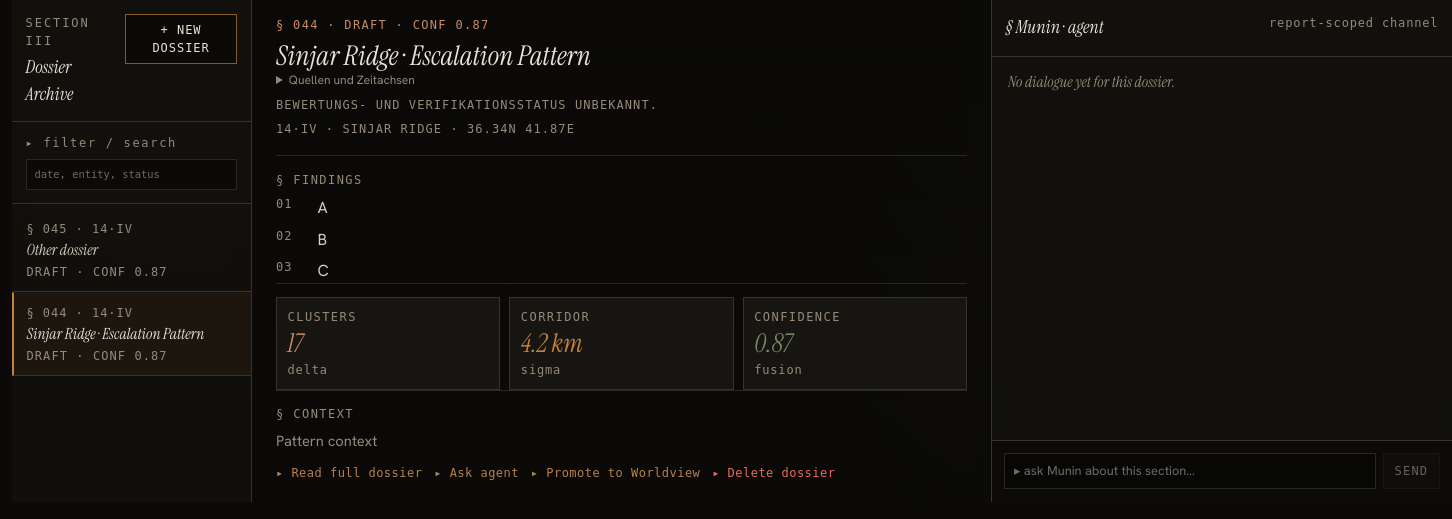
Test: never inserts an answer into a different dossier selected while analysis ran
The width and height of the screenshot is (1452, 519).
Click the button "§ 045 · 14·IV Other dossier draft · conf 0.87".
click(132, 251)  # box 12,209 -> 251,292
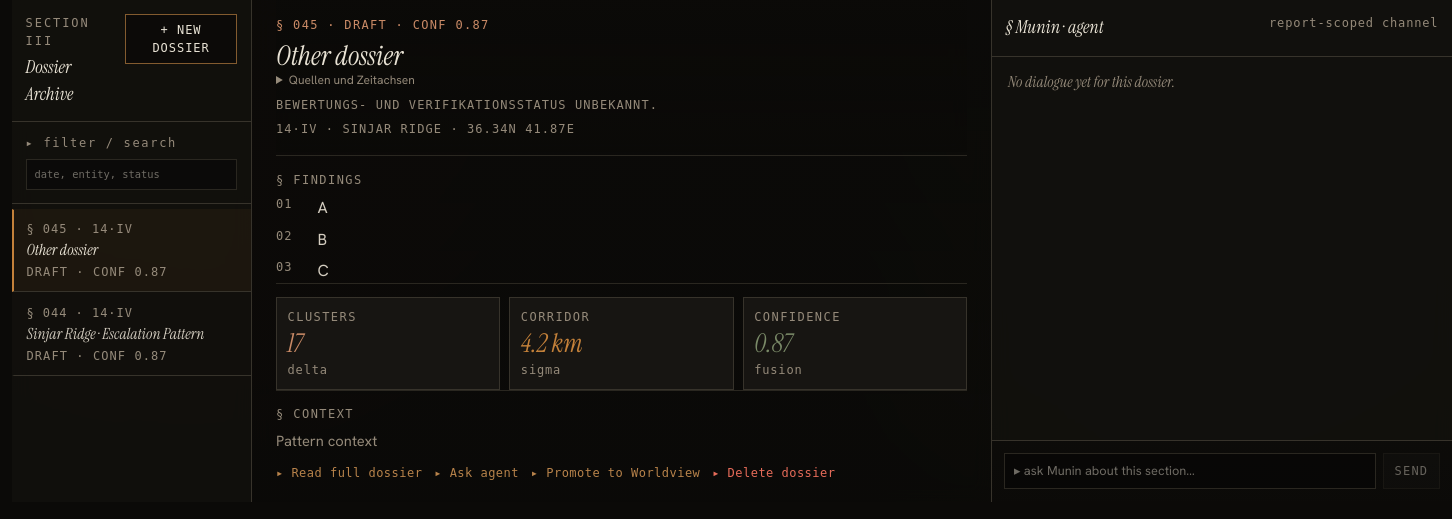
Now the heading "Other dossier" is shown, box 276,38 -> 403,73
